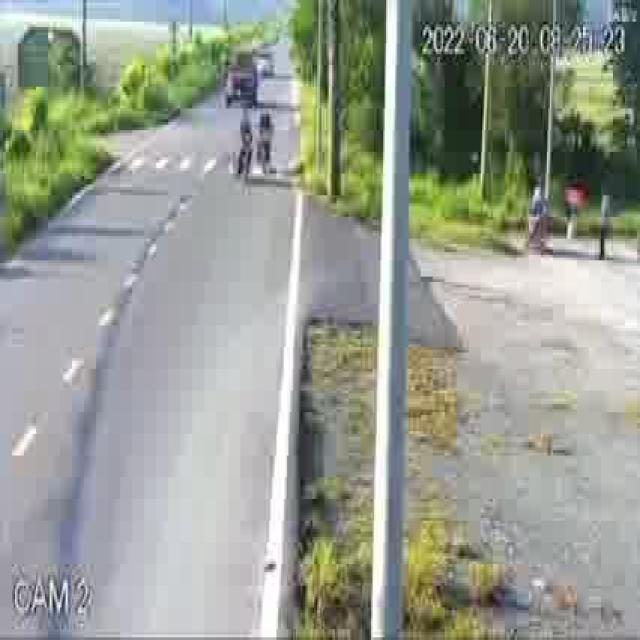normal: (231, 89, 284, 207)
